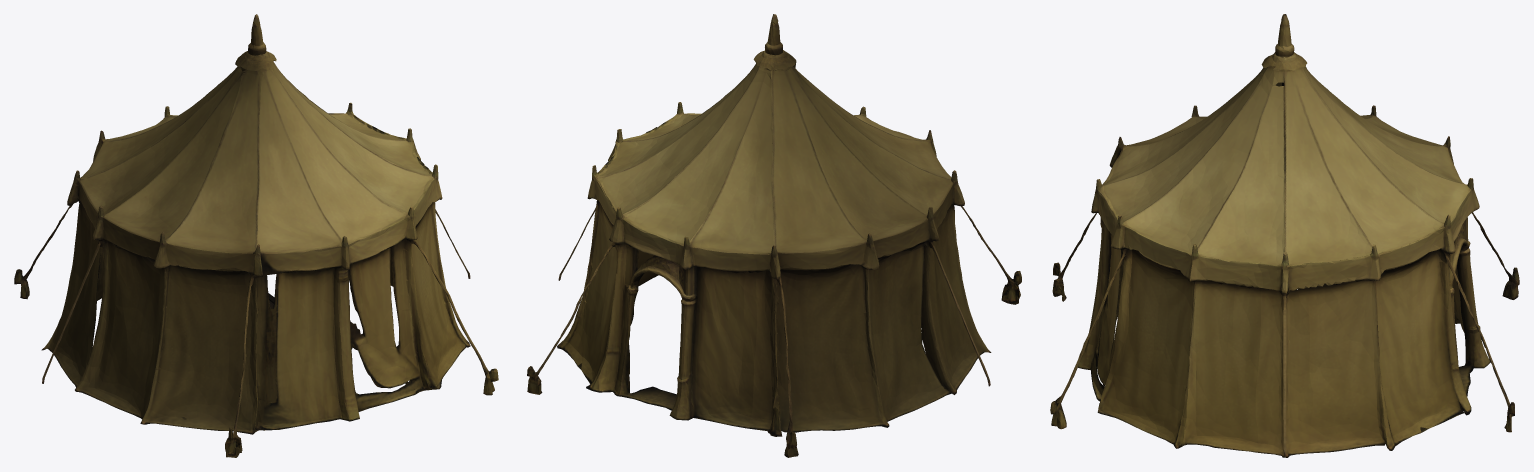
The model's file is tent_large.glb.
The picture shows the model from 3 angles, left to right: view 1: azimuth 30°, elevation 25°; view 2: azimuth 150°, elevation 25°; view 3: azimuth 270°, elevation 25°; orthographic projection. The views are drawn at different scales.
Visible parts, largest first — view 1: world; view 2: world; view 3: world.
Boxes of the visible parts, x1,y1,x2,y2 form: world: (14, 14, 498, 457); world: (527, 14, 1021, 457); world: (1050, 14, 1519, 457).
Size of the model in its own units: 1 by 0.7482 by 0.9023.
1 material, 1 textured.
